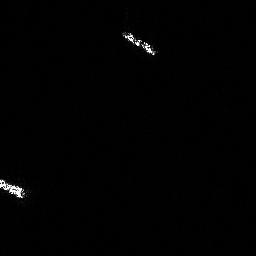ship: (119, 28, 160, 59), (1, 176, 32, 203)
